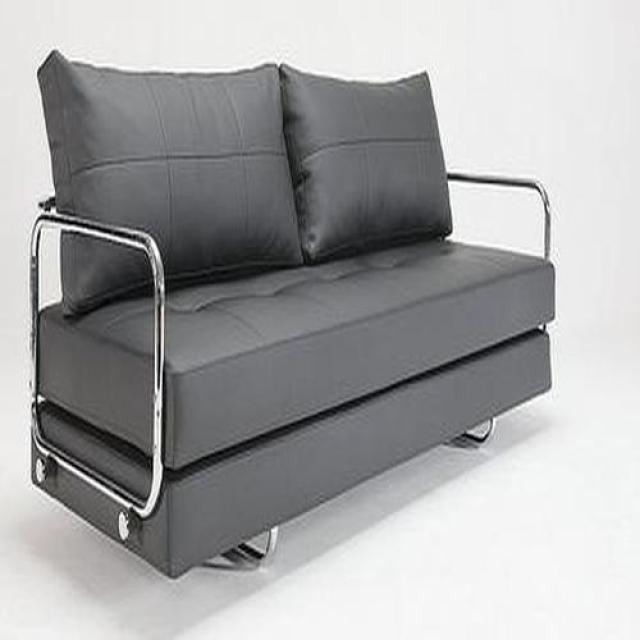sofa: (29, 52, 557, 581)
